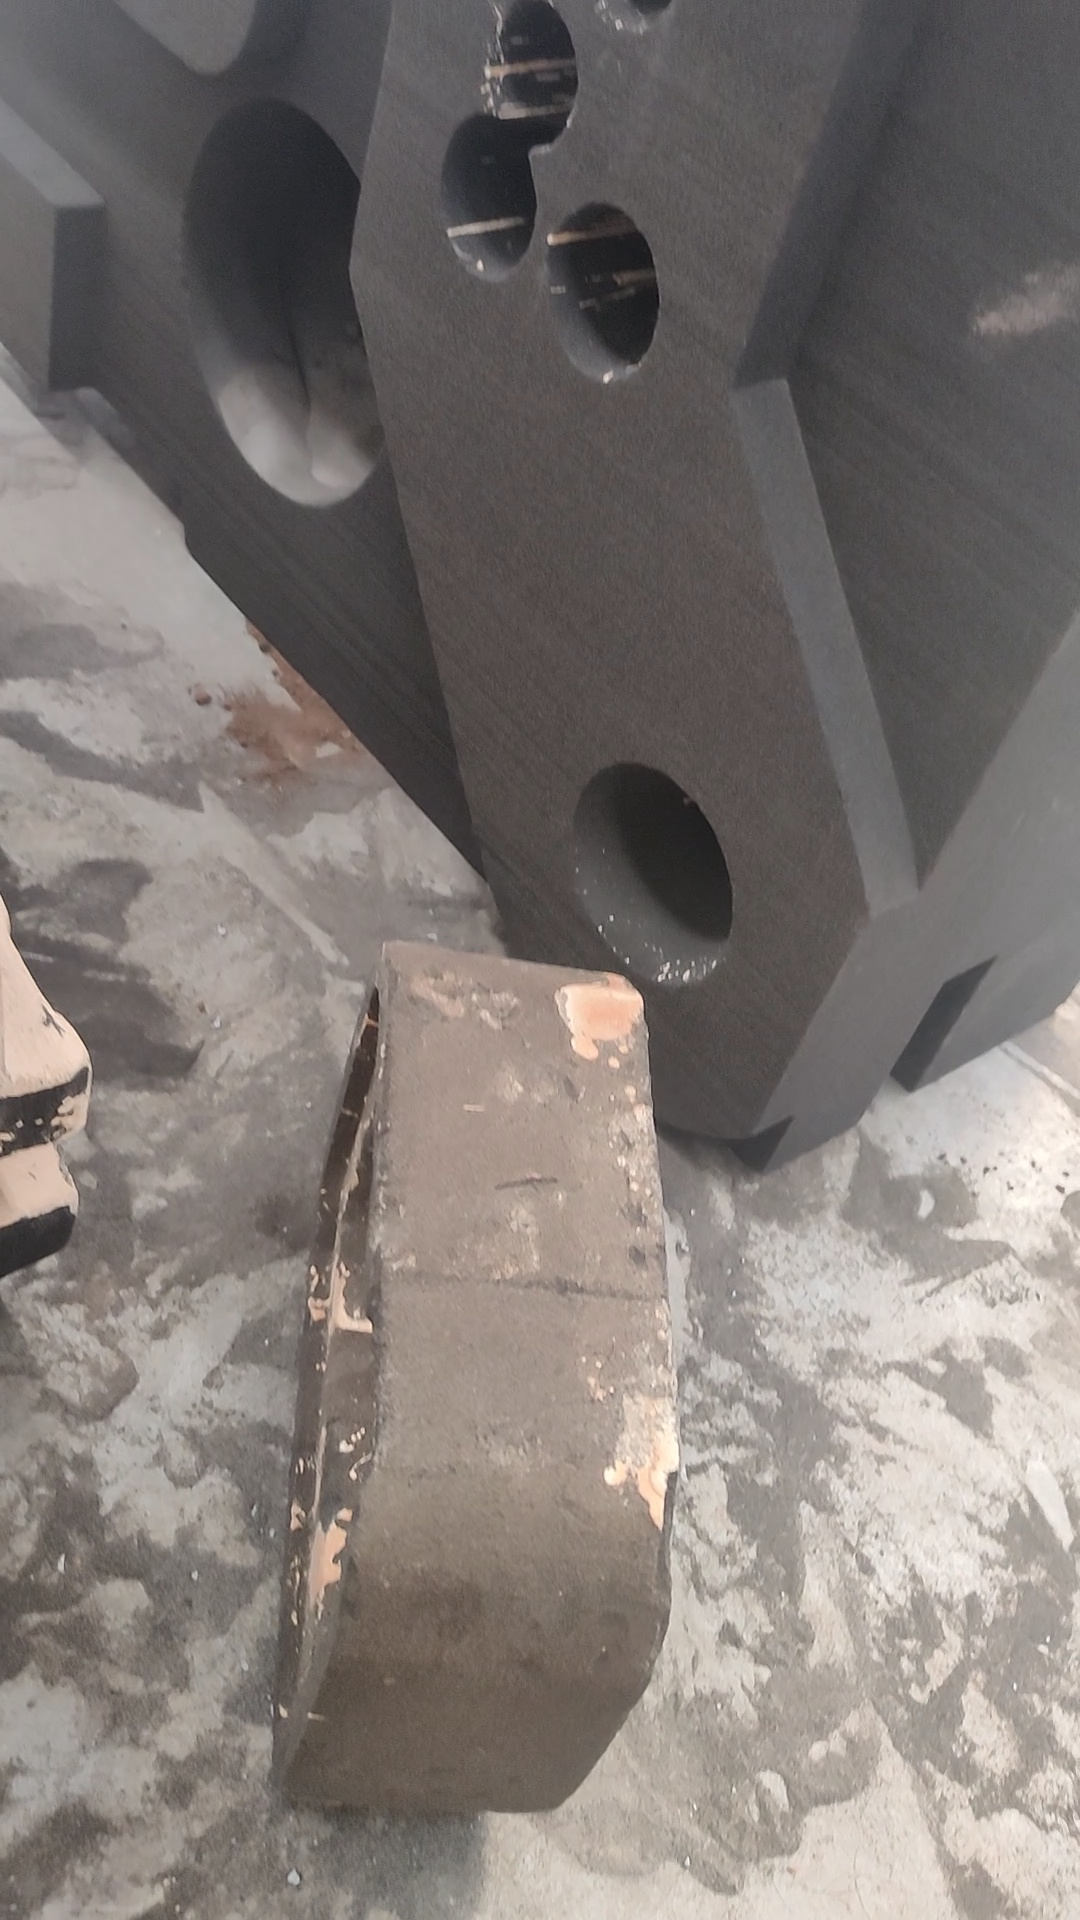pouring hole: (574, 764, 735, 990)
